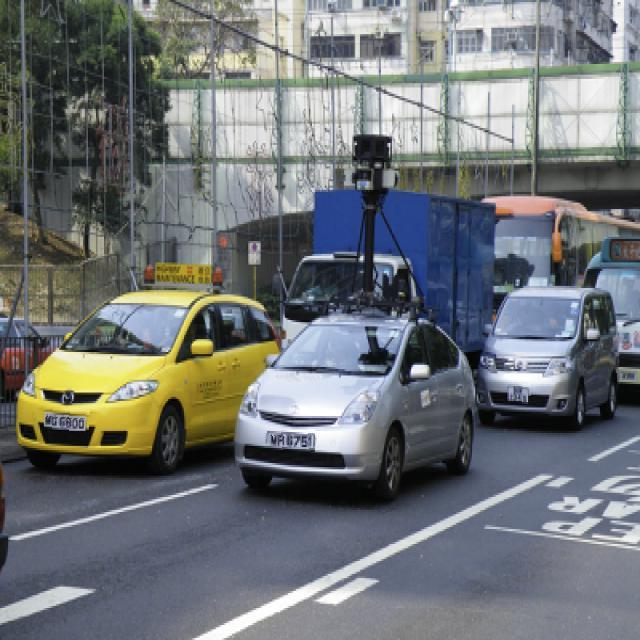licence: (267, 429, 315, 454), (44, 407, 90, 431), (499, 382, 531, 405), (614, 365, 637, 384)
